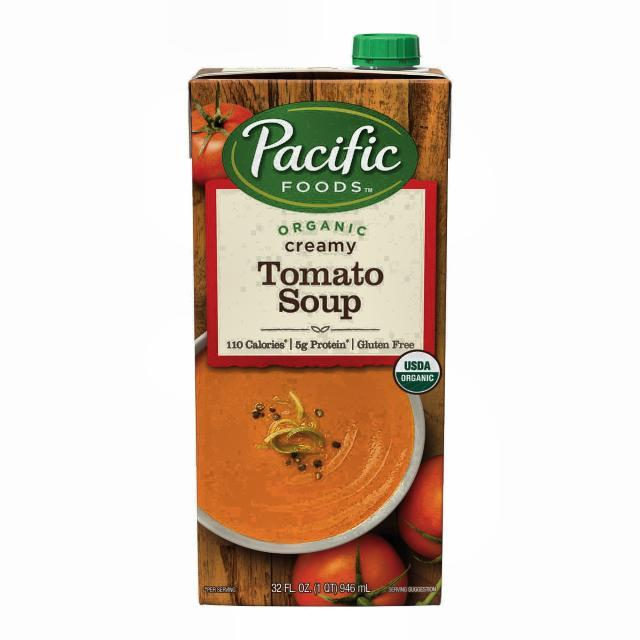cardboard: (190, 65, 450, 604)
